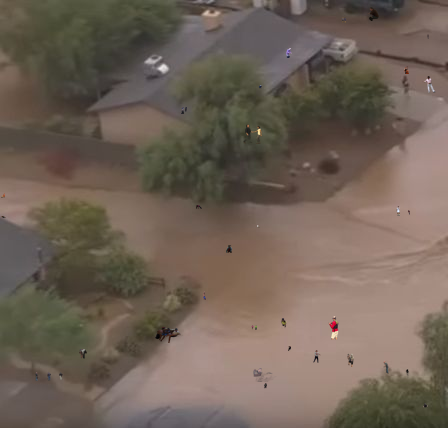Human: (383, 361, 411, 380), (155, 327, 183, 343), (243, 124, 262, 144), (253, 368, 277, 382), (328, 316, 339, 340), (35, 372, 63, 381), (422, 76, 436, 93), (367, 7, 379, 21), (347, 353, 356, 367), (313, 350, 321, 363), (79, 349, 87, 359), (280, 318, 287, 329), (286, 48, 292, 58), (226, 245, 232, 253), (181, 107, 187, 114), (396, 206, 400, 216), (404, 66, 409, 74), (423, 403, 428, 410), (251, 325, 257, 330), (203, 291, 206, 300), (264, 383, 267, 391), (342, 17, 346, 23), (196, 205, 202, 209), (1, 193, 5, 198), (288, 346, 291, 351), (259, 85, 262, 89), (427, 34, 429, 39), (1, 216, 6, 218), (65, 267, 67, 272), (408, 210, 410, 215), (257, 225, 260, 228)
